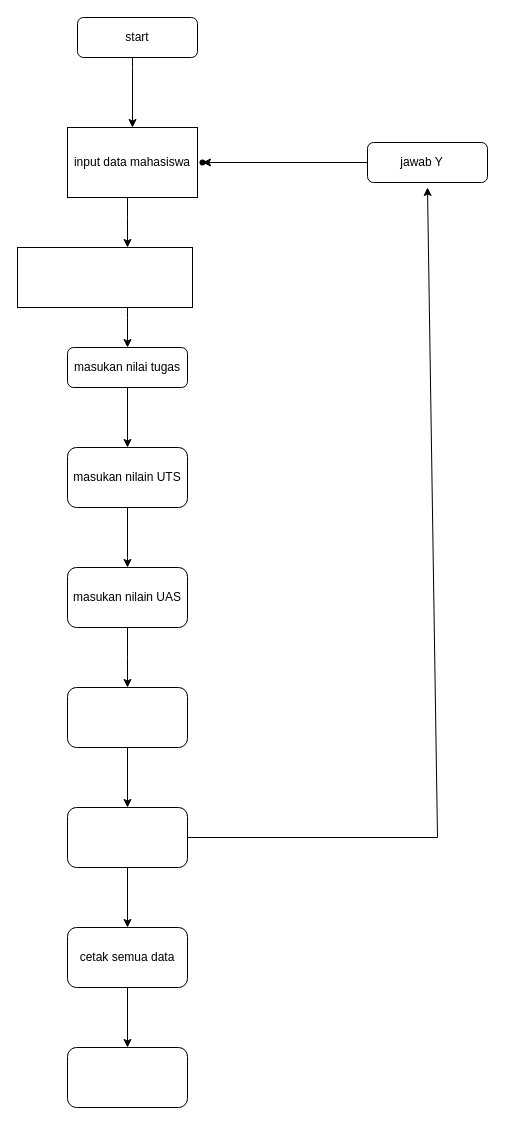
The diagram is 505 pixels wide and 1125 high, and some of its shapes have lost their labels. The centre of each missing label's shape, as x and y in pixels:
end: (x=127, y=1077)
Hitung nilai akhir: (x=127, y=717)
inisialisasi list data_mahasiswa: (x=104, y=277)
tambah data lagi jawab (Y/T): (x=127, y=837)
